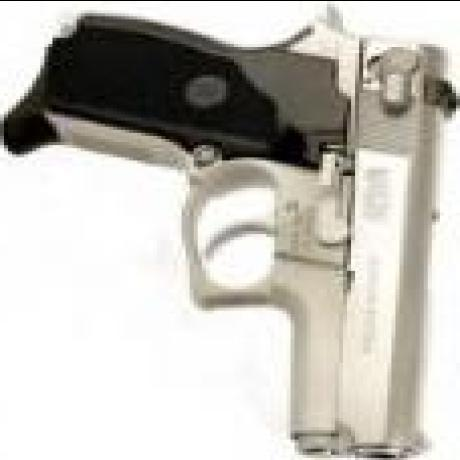weapon: (6, 16, 452, 456)
